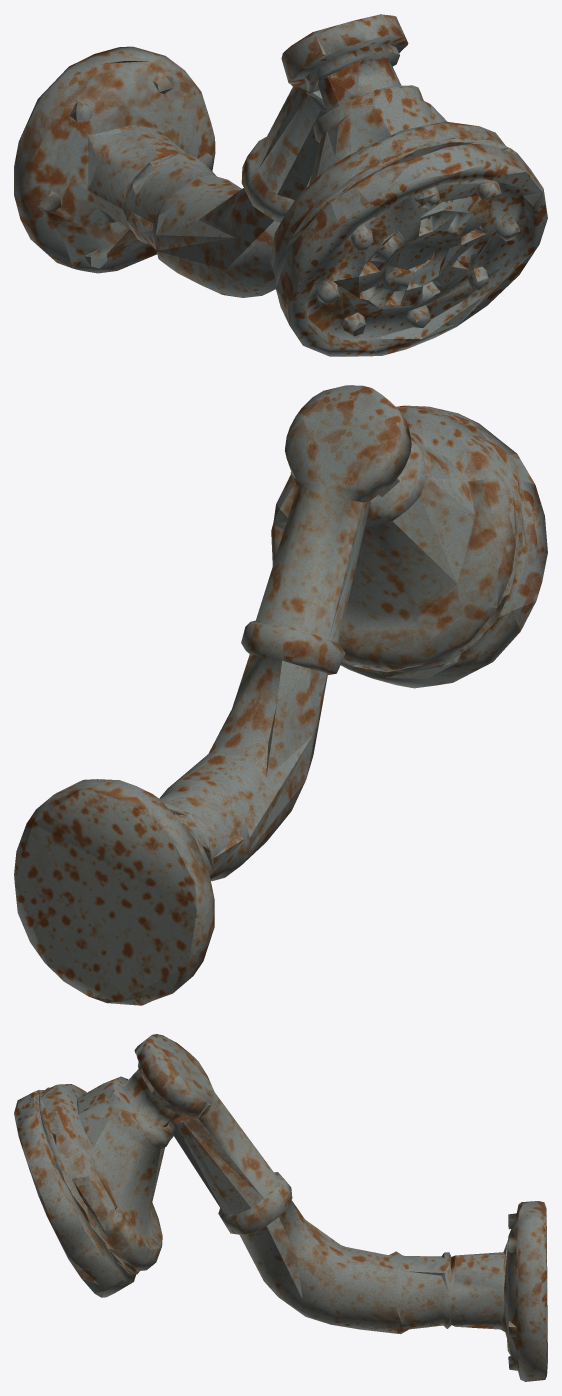
The model's file is Douche.fbx.
The picture shows the model from 3 angles, top to bottom: view 1: azimuth 30°, elevation 25°; view 2: azimuth 150°, elevation 25°; view 3: azimuth 270°, elevation 25°; orthographic projection. The views are drawn at different scales.
Visible parts, largest first — view 1: Mesh_0; view 2: Mesh_0; view 3: Mesh_0.
Part boxes in pixels (x1,y1,x2,y2): Mesh_0: (14, 14, 547, 356); Mesh_0: (14, 385, 547, 1005); Mesh_0: (14, 1034, 547, 1381).
Size of the model in its own units: 79.11 by 130 by 190.
Materials: 1 (1 with a texture image).
